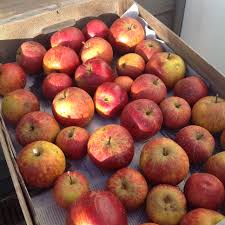apple: (19, 143, 68, 186), (121, 99, 159, 134), (54, 91, 94, 123), (91, 83, 128, 115), (75, 60, 116, 88), (149, 54, 184, 83), (43, 47, 78, 69), (130, 76, 166, 97), (2, 93, 36, 115), (46, 74, 69, 99)
damaged_apple: (59, 125, 91, 153)
